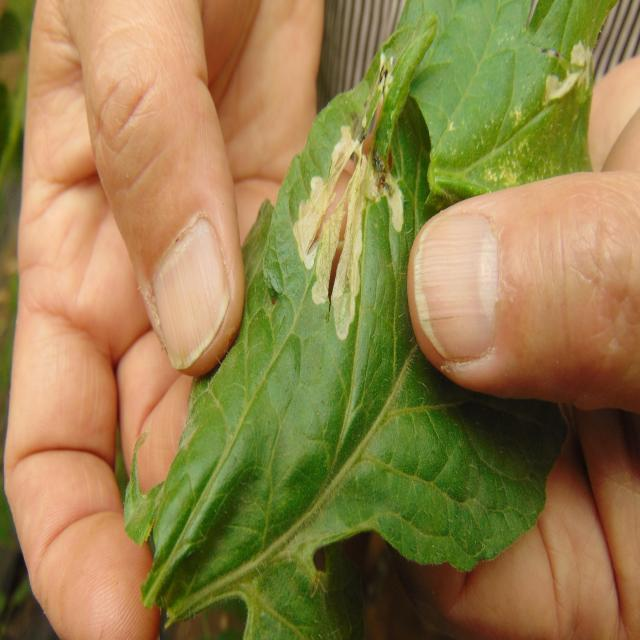Tuta absoluta: (283, 125, 359, 272), (325, 154, 380, 341), (532, 39, 604, 114), (310, 189, 348, 306), (382, 172, 410, 233)
